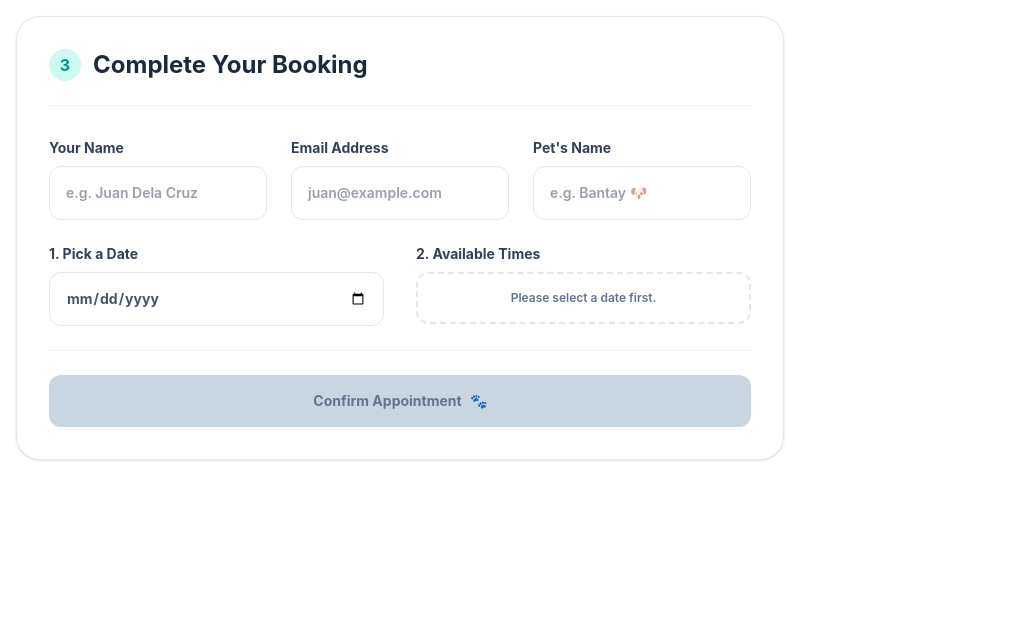
Scenario: BookingForm Logic & Workflow Automation › blocks checkouts and raises error toast if slot is claimed right before submission
Type "2026-08-15" into the date field at (216, 299), box [49,272,384,326]
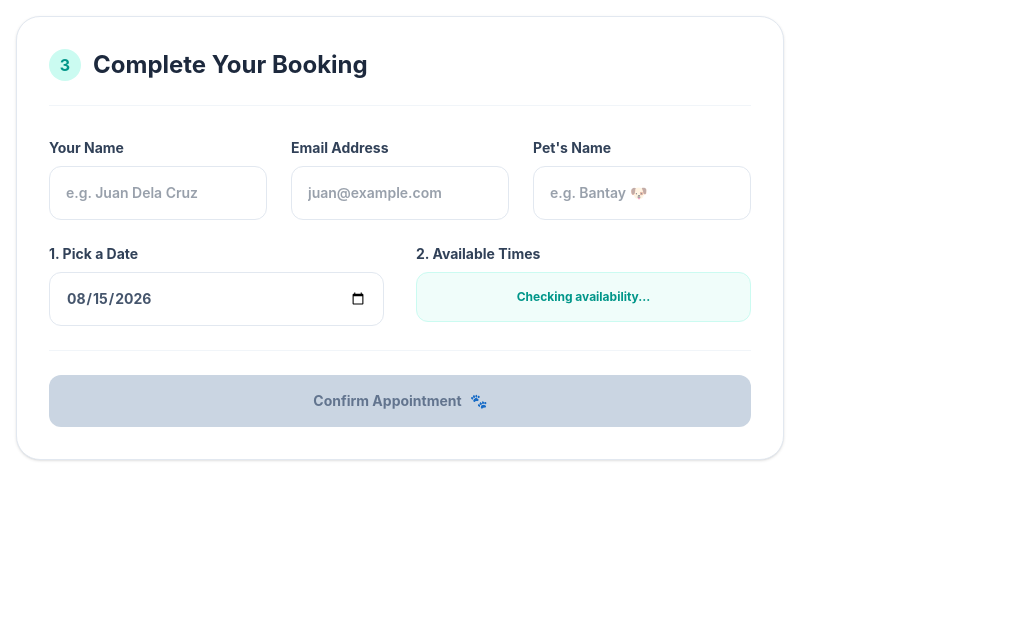
Type "Jade Soriano" into the field with placeholder "e.g. Juan Dela Cruz" at (158, 193), box [49,166,267,220]
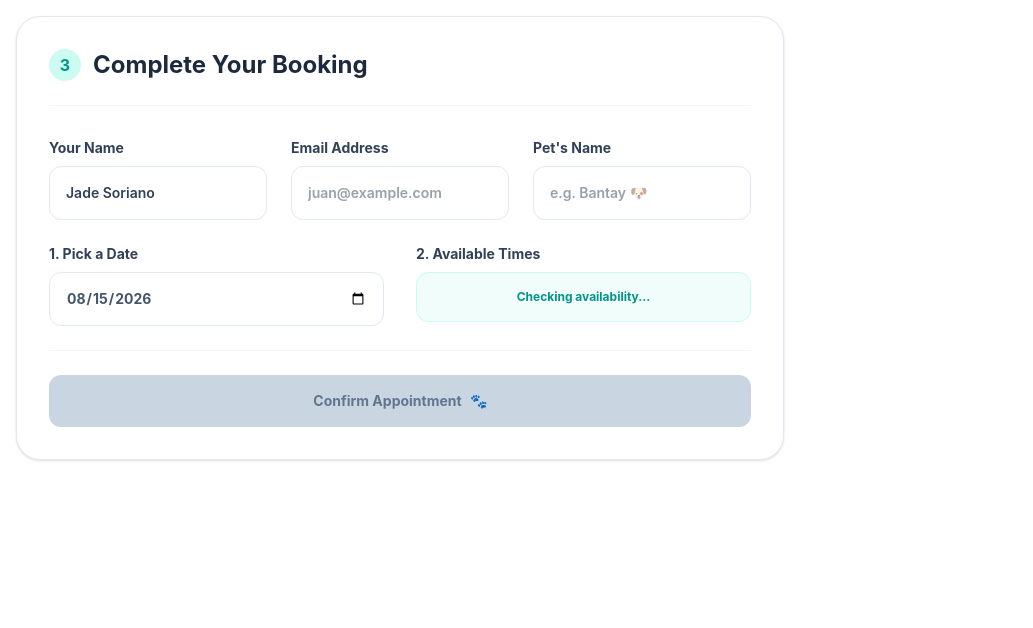
Type "jade@example.com" into the field with placeholder "juan@example.com" at (400, 193), box [291,166,509,220]
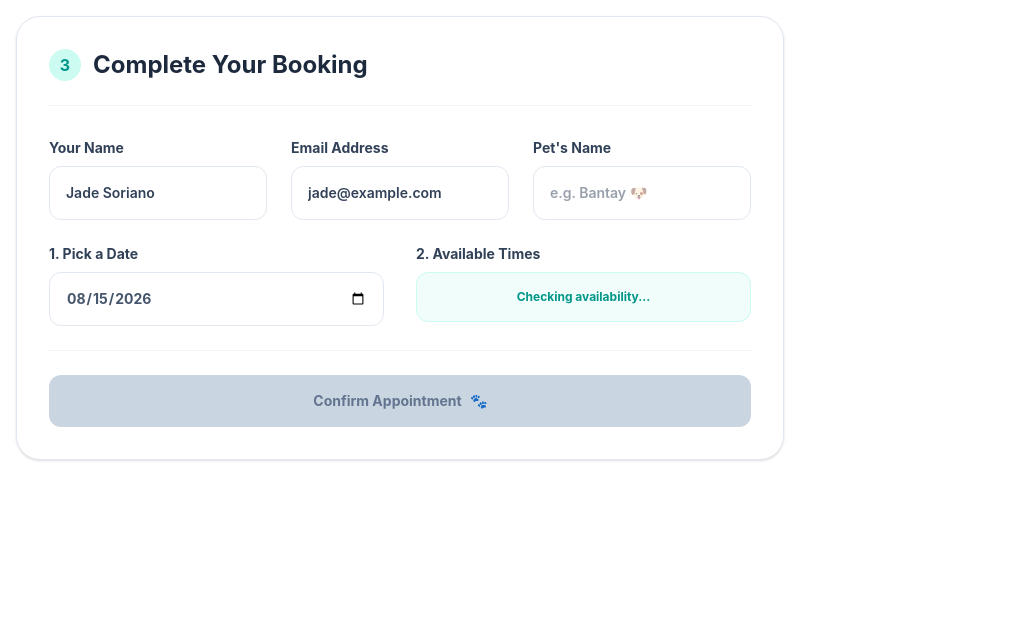
Type "Bantay" into the field with placeholder "e.g. Bantay 🐶" at (642, 193), box [533,166,751,220]
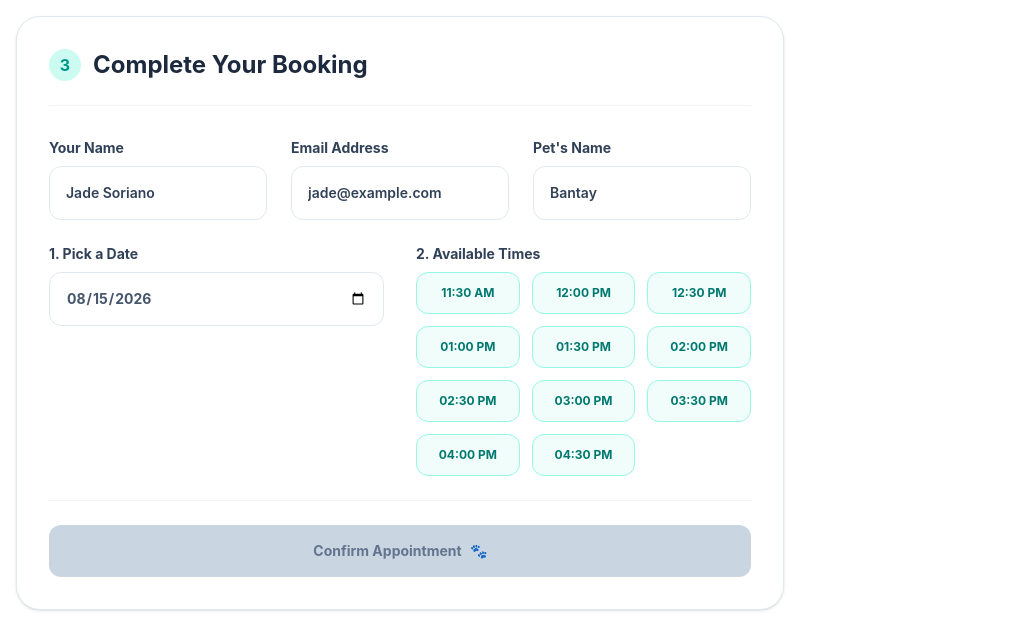
Select an available open timeline block button
Click the button "11:30 AM" at (468, 293), box [416,272,520,314]
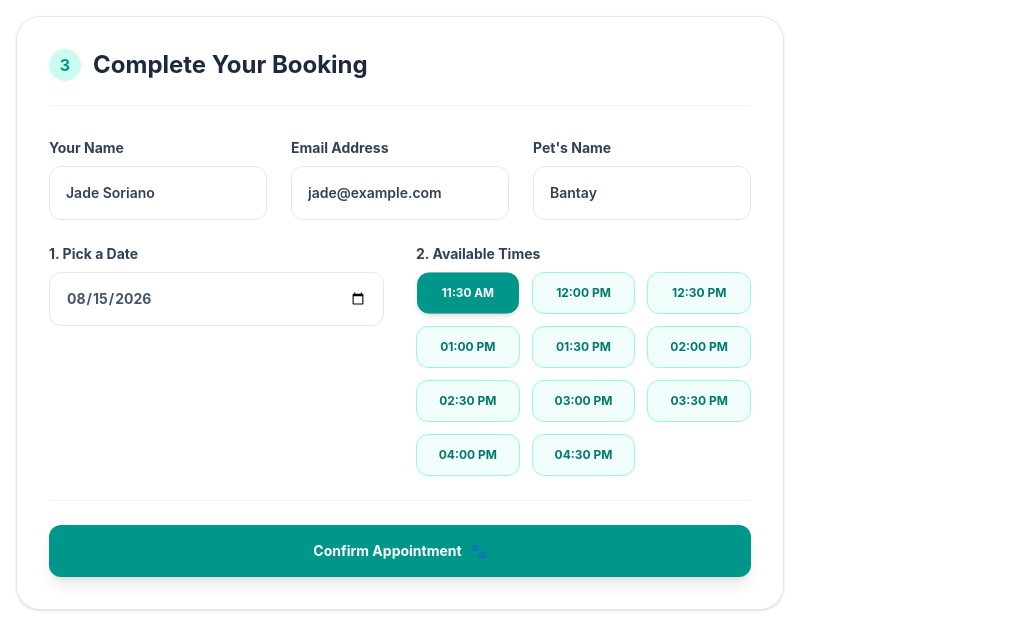
Click the button "Confirm Appointment 🐾" at (400, 551), box [49,525,751,577]
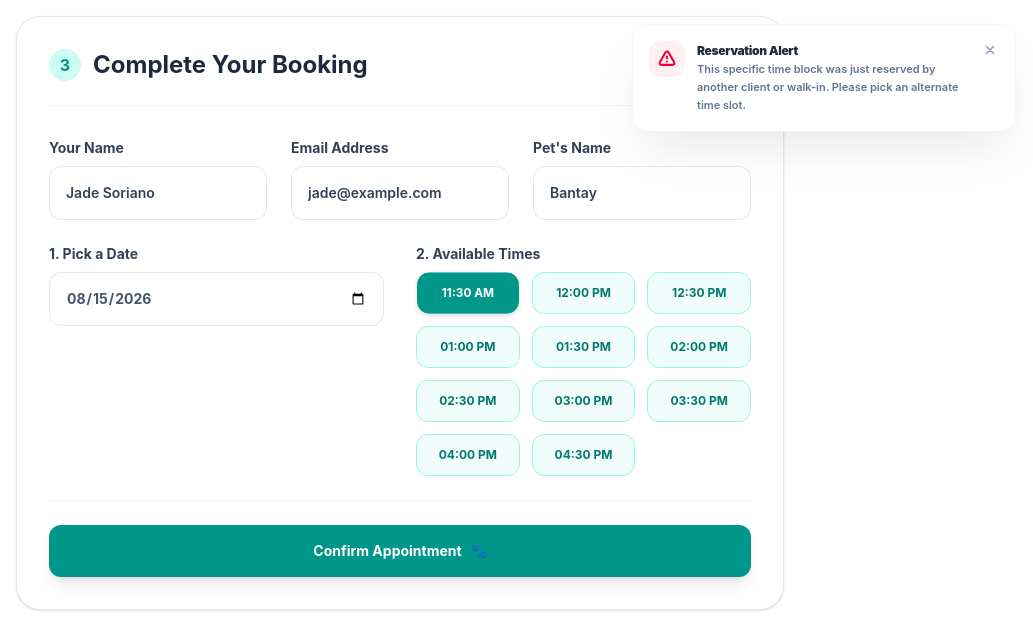
Expected: the text "This specific time block was just reserved by another client or walk-in. Please pick an alternate time slot." is shown, [697,62,958,112]
